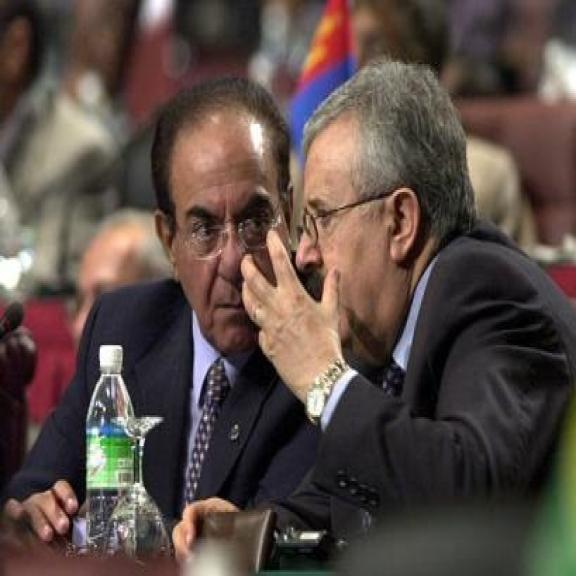face: (156, 127, 295, 352), (293, 129, 422, 367)
